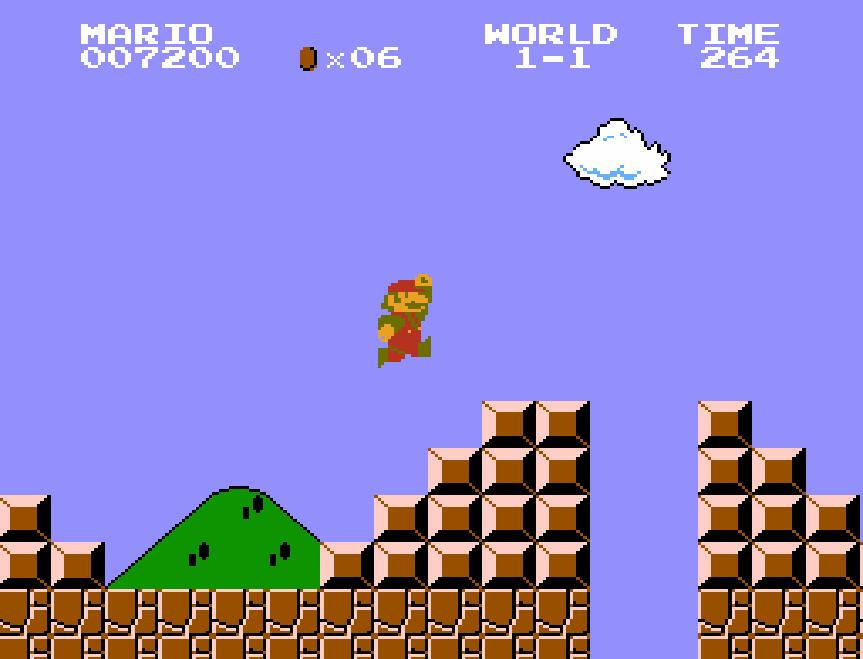big_mario: (376, 272, 434, 370)
